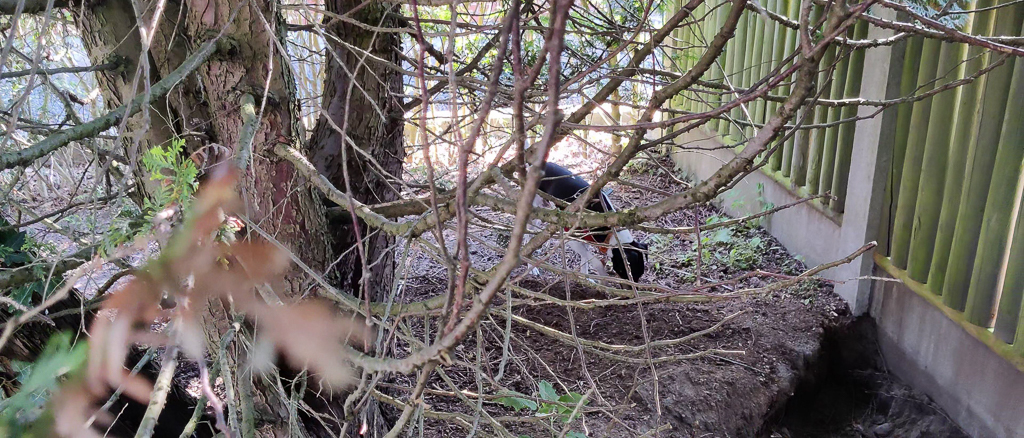Dog: (510, 108, 658, 308)
